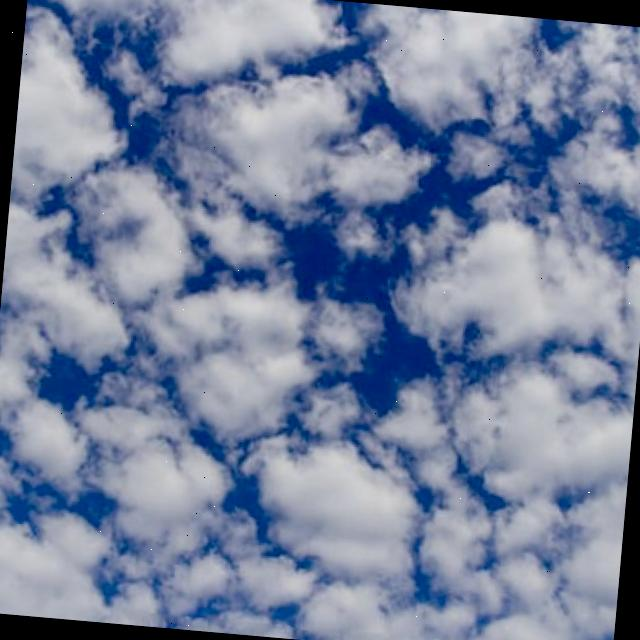St: (1, 1, 635, 569)
